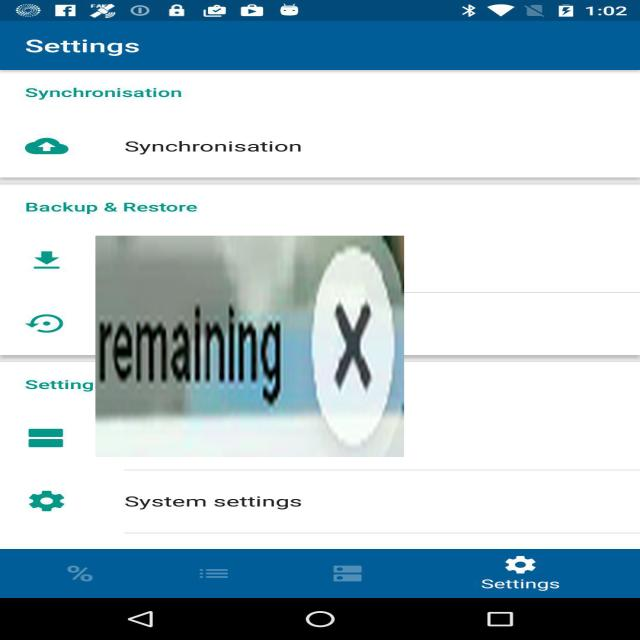misdirection: (96, 236, 404, 457)
